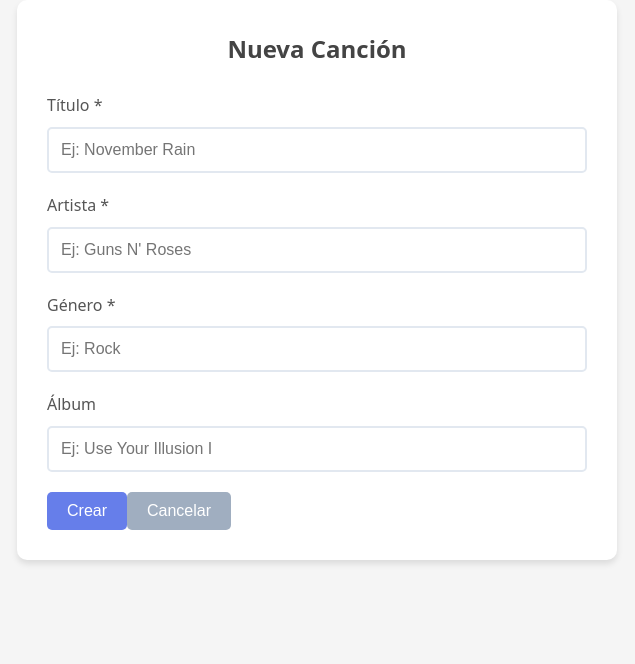
SongForm › valida en el cliente antes de enviar
Click the button "Crear". click: click(87, 511)
box: x1=47 y1=492 x2=127 y2=530
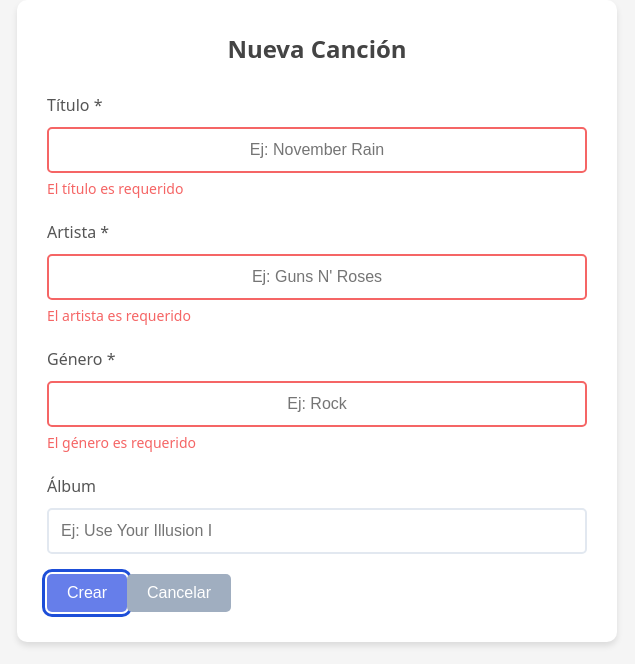
Now the text "El título es requerido" is shown, box x1=47 y1=179 x2=183 y2=198
